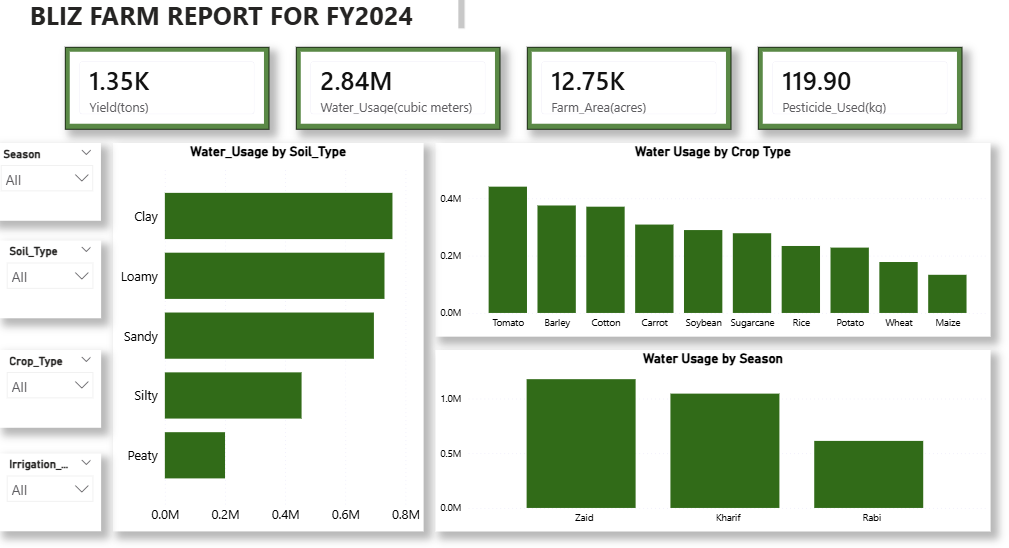

The page's visual inventory and layout, read from the dashboard file:
{"tool":"powerbi","page":{"name":"Page 1","canvas":[1280,720],"ordinal":0},"visuals":[{"type":"cardVisual","fields":{"Data":["Sum(agriculture_dataset.Farm_Area(acres))"]},"box":[672.8,79.4,257,103.9],"z":0},{"type":"cardVisual","fields":{"Data":["Sum(agriculture_dataset.Pesticide_Used(kg))"]},"box":[963.8,79.4,257,103.9],"z":1000},{"type":"cardVisual","fields":{"Data":["Sum(agriculture_dataset.Yield(tons))"]},"box":[90.7,79.4,257,103.9],"z":2000},{"type":"cardVisual","fields":{"Data":["Sum(agriculture_dataset.Water_Usage(cubic meters))"]},"box":[381.7,79.4,257,103.9],"z":3000},{"type":"columnChart","title":"Water Usage by Crop Type","fields":{"Category":["agriculture_dataset.Crop_Type"],"Y":["Sum(agriculture_dataset.Water_Usage(cubic meters))"]},"box":[557.5,200.3,699.2,243.8],"z":4000},{"type":"barChart","title":"Water_Usage by Soil_Type","fields":{"Category":["agriculture_dataset.Soil_Type"],"Y":["Sum(agriculture_dataset.Water_Usage(cubic meters))"]},"box":[151.2,200.3,391.2,489.5],"z":5000},{"type":"columnChart","title":"Water Usage by Season","fields":{"Category":["agriculture_dataset.Season"],"Y":["Sum(agriculture_dataset.Water_Usage(cubic meters))"]},"box":[557.5,461.1,699.2,228.7],"z":6000},{"type":"textbox","box":[41.6,11.3,557.5,51],"z":7000},{"type":"slicer","fields":{"Values":["agriculture_dataset.Season"]},"box":[0,200.3,136.1,98.3],"z":8000},{"type":"slicer","fields":{"Values":["agriculture_dataset.Soil_Type"]},"box":[7.6,323.2,128.5,98.3],"z":9000},{"type":"slicer","fields":{"Values":["agriculture_dataset.Crop_Type"]},"box":[7.6,461.1,128.5,98.3],"z":10000},{"type":"slicer","fields":{"Values":["agriculture_dataset.Irrigation_Type"]},"box":[7.6,591.5,128.5,98.3],"z":11000}]}

Visuals, with their boxes on the page's 1280x720 design canvas (x1, y1, x2, y2). These are canvas units, not pixel positions in the 1009x548 screenshot, which may show the page scaled, cropped or inside an application window:
cardVisual - Sum(agriculture_dataset.Farm_Area(acres)): bbox=[673, 79, 930, 183]
cardVisual - Sum(agriculture_dataset.Pesticide_Used(kg)): bbox=[964, 79, 1221, 183]
cardVisual - Sum(agriculture_dataset.Yield(tons)): bbox=[91, 79, 348, 183]
cardVisual - Sum(agriculture_dataset.Water_Usage(cubic meters)): bbox=[382, 79, 639, 183]
"Water Usage by Crop Type" columnChart: bbox=[558, 200, 1257, 444]
"Water_Usage by Soil_Type" barChart: bbox=[151, 200, 542, 690]
"Water Usage by Season" columnChart: bbox=[558, 461, 1257, 690]
textbox: bbox=[42, 11, 599, 62]
slicer - agriculture_dataset.Season: bbox=[0, 200, 136, 299]
slicer - agriculture_dataset.Soil_Type: bbox=[8, 323, 136, 422]
slicer - agriculture_dataset.Crop_Type: bbox=[8, 461, 136, 559]
slicer - agriculture_dataset.Irrigation_Type: bbox=[8, 592, 136, 690]
